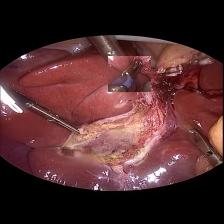Bipolar: (108, 55, 151, 91)
Grasper: (182, 126, 224, 167), (38, 104, 88, 134)
